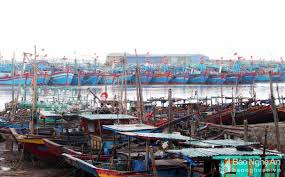tau_dansu: (82, 133, 205, 177), (5, 56, 32, 88), (52, 54, 75, 87), (80, 58, 104, 88), (137, 57, 154, 89), (191, 63, 208, 89), (210, 62, 226, 89), (120, 58, 132, 89), (177, 63, 191, 87)
